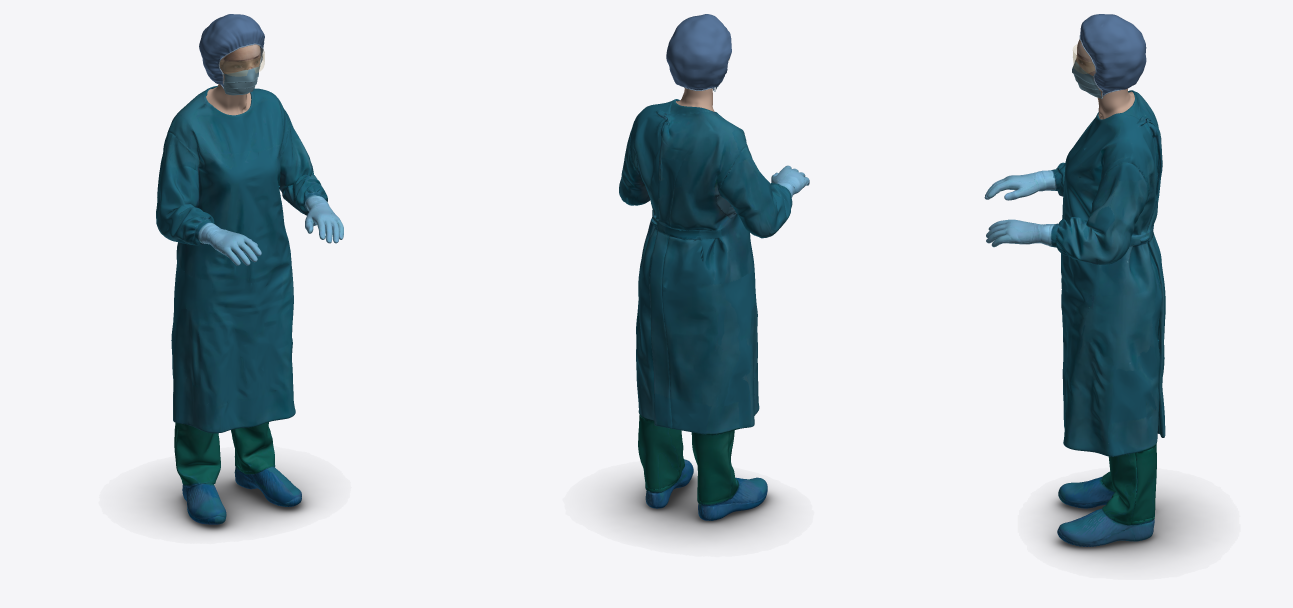
File: arsenalera-persona.glb
3 renders of one model, left to right at view 1: azimuth 30°, elevation 25°; view 2: azimuth 150°, elevation 25°; view 3: azimuth 270°, elevation 25°, orthographic. The views are drawn at different scales.
Parts seen in each view (by area): view 1: bata.abajo, bata.arriba, sombra, pantalon.tela, guantes.arriba, zapatos.cubrecalzado, gorro.tela, cabeza.piel, cara.foto, mascarilla.tela, gafas.lentes; view 2: bata.abajo, bata.arriba, pantalon.tela, sombra, gorro.tela, zapatos.cubrecalzado, guantes.arriba, cabeza.piel; view 3: bata.abajo, bata.arriba, sombra, gorro.tela, zapatos.cubrecalzado, pantalon.tela, guantes.arriba, cabeza.piel, mascarilla.tela.
Part boxes in pixels (bbox=[...]): bata.abajo: bbox=[159, 206, 303, 473]; bata.arriba: bbox=[156, 85, 327, 244]; sombra: bbox=[147, 465, 315, 533]; pantalon.tela: bbox=[174, 422, 275, 485]; guantes.arriba: bbox=[177, 190, 343, 265]; zapatos.cubrecalzado: bbox=[182, 466, 301, 524]; gorro.tela: bbox=[199, 14, 264, 86]; cabeza.piel: bbox=[206, 44, 258, 115]; cara.foto: bbox=[220, 44, 260, 72]; mascarilla.tela: bbox=[223, 65, 259, 95]; gafas.lentes: bbox=[220, 48, 264, 76]; bata.abajo: bbox=[624, 197, 781, 491]; bata.arriba: bbox=[619, 99, 794, 236]; pantalon.tela: bbox=[638, 407, 740, 505]; sombra: bbox=[612, 471, 780, 538]; gorro.tela: bbox=[666, 14, 731, 90]; zapatos.cubrecalzado: bbox=[645, 459, 767, 520]; guantes.arriba: bbox=[771, 165, 809, 206]; cabeza.piel: bbox=[676, 88, 714, 111]; bata.abajo: bbox=[1061, 219, 1165, 518]; bata.arriba: bbox=[1024, 90, 1162, 262]; sombra: bbox=[1047, 491, 1199, 560]; gorro.tela: bbox=[1080, 14, 1146, 95]; zapatos.cubrecalzado: bbox=[1057, 476, 1154, 546]; pantalon.tela: bbox=[1102, 427, 1161, 525]; guantes.arriba: bbox=[984, 167, 1062, 247]; cabeza.piel: bbox=[1083, 69, 1134, 119]; mascarilla.tela: bbox=[1072, 60, 1102, 98].
Size of the model in its own units: 1 by 1.68 by 1.
11 materials, 6 textured.
